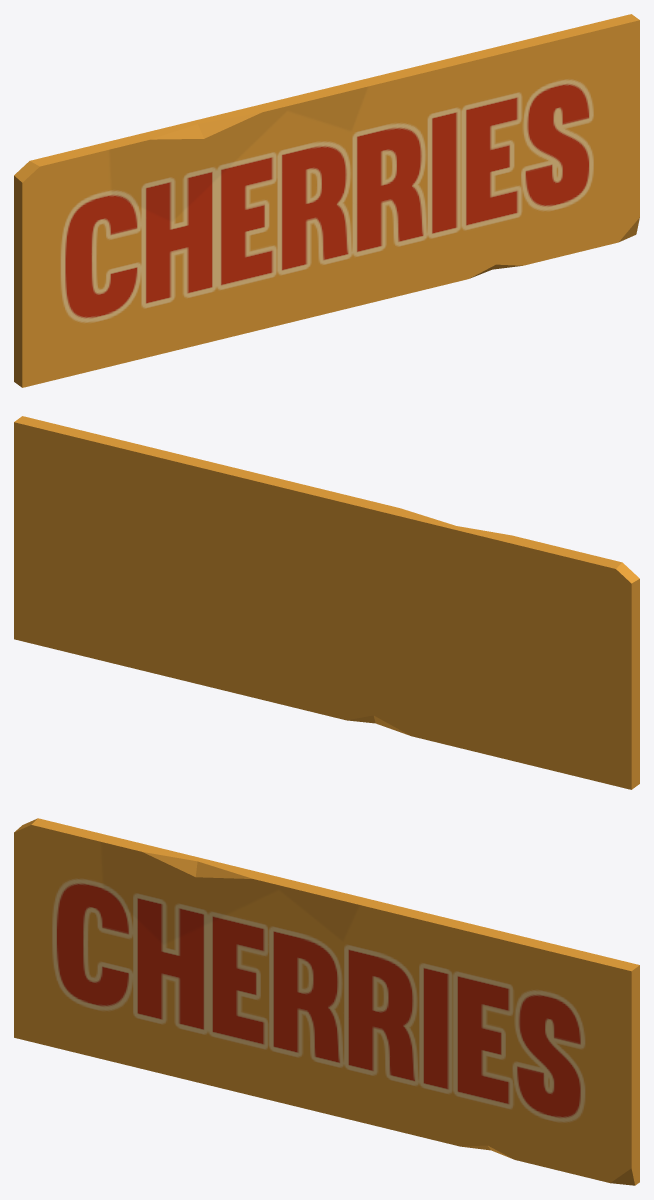
The model's file is SM_Prop_Sign_Cheeries_01.fbx.
3 views of the same model, one above another, from view 1: azimuth 30°, elevation 25°; view 2: azimuth 150°, elevation 25°; view 3: azimuth 330°, elevation 25° (orthographic).
Visible parts, largest first — view 1: SM_Prop_Sign_Cheeries_01; view 2: SM_Prop_Sign_Cheeries_01; view 3: SM_Prop_Sign_Cheeries_01.
Part boxes in pixels (x1,y1,x2,y2): SM_Prop_Sign_Cheeries_01: [14, 14, 639, 387]; SM_Prop_Sign_Cheeries_01: [14, 416, 639, 789]; SM_Prop_Sign_Cheeries_01: [14, 818, 639, 1185].
Bounding box in the file's own units: 110 × 36.89 × 2.6.
